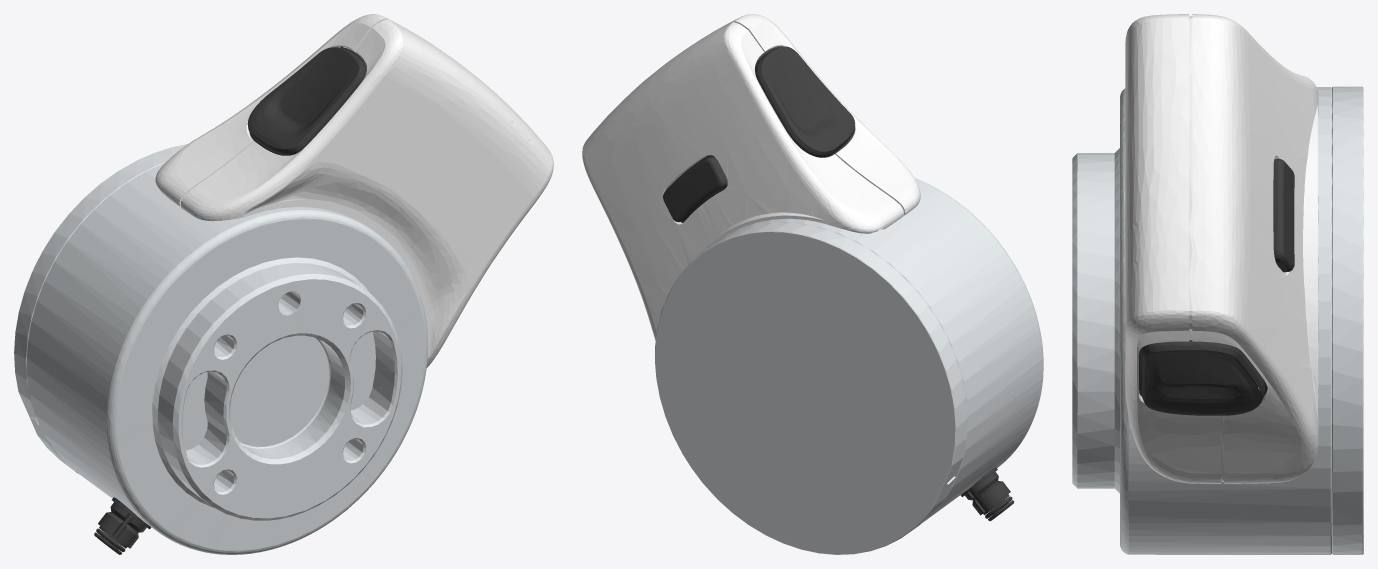
3 views of the same model, side by side, from view 1: azimuth 30°, elevation 25°; view 2: azimuth 150°, elevation 25°; view 3: azimuth 270°, elevation 25° (orthographic). The views are drawn at different scales.
Parts seen in each view (by area): view 1: node0, node4, node3, node7; view 2: node0, node4, node3, node2, node7; view 3: node4, node0, node1, node2.
Part boxes in pixels (<box>): node0: <box>14,144,428,554</box>; node4: <box>155,14,553,367</box>; node3: <box>247,46,366,155</box>; node7: <box>98,497,151,548</box>; node0: <box>655,178,1043,554</box>; node4: <box>582,14,920,340</box>; node3: <box>755,46,855,157</box>; node2: <box>663,155,727,222</box>; node7: <box>960,467,1010,515</box>; node4: <box>1125,14,1318,483</box>; node0: <box>1072,86,1363,554</box>; node1: <box>1139,340,1267,415</box>; node2: <box>1273,159,1294,272</box>.
Bounding box in the file's own units: 0.1253 × 0.1253 × 0.0548.
Materials: 1 (1 with a texture image).
